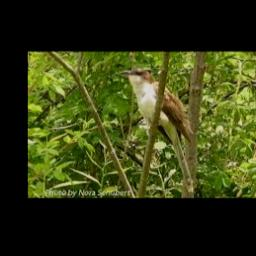Cuckoo: (120, 69, 194, 143)
